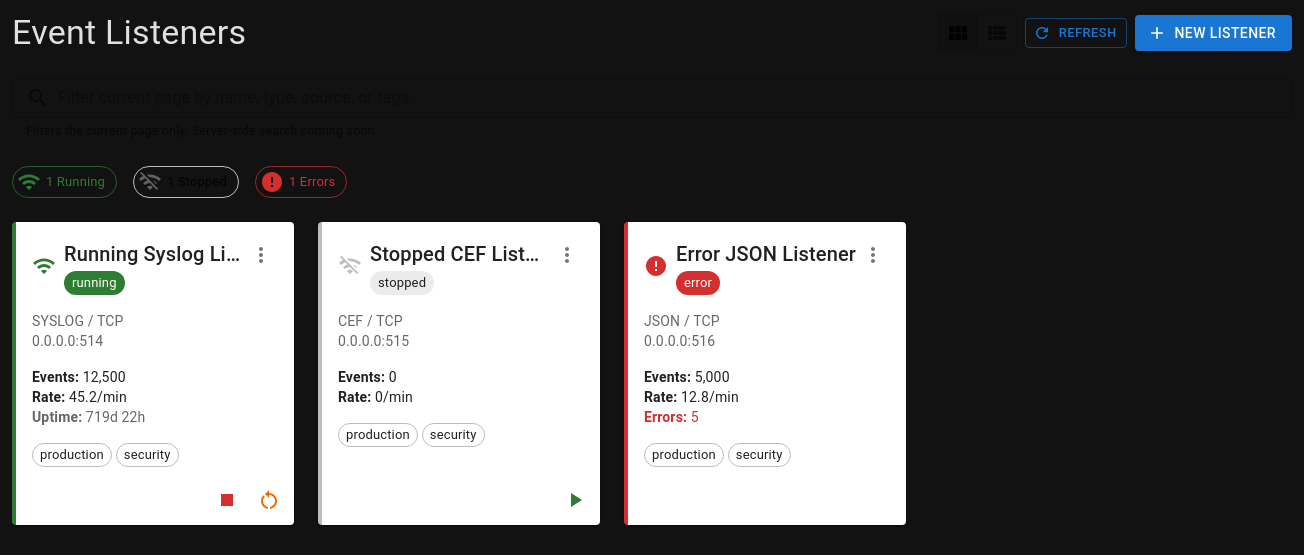
Test: Listeners Page › Actions Menu › opens actions menu when menu button is clicked
The image size is (1304, 555).
Expected: the text "Running Syslog Listener" is shown, [64,238,244,270]
Click the button named "open actions menu" at (261, 255), box [244,238,278,272]
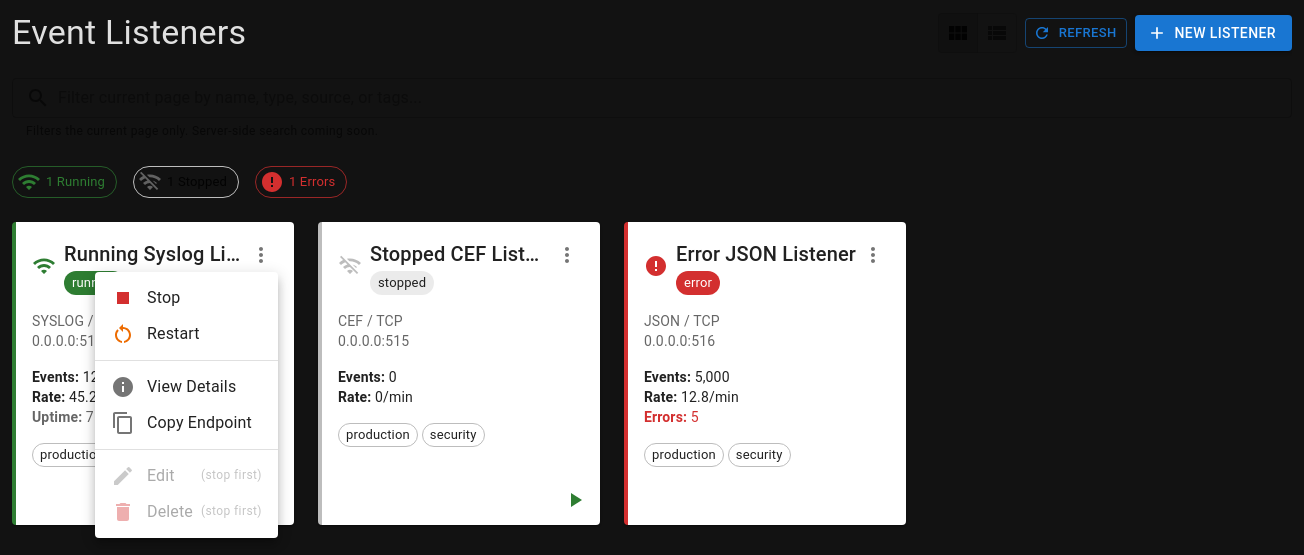
Expected: the menu is shown, [111,286,262,524]
